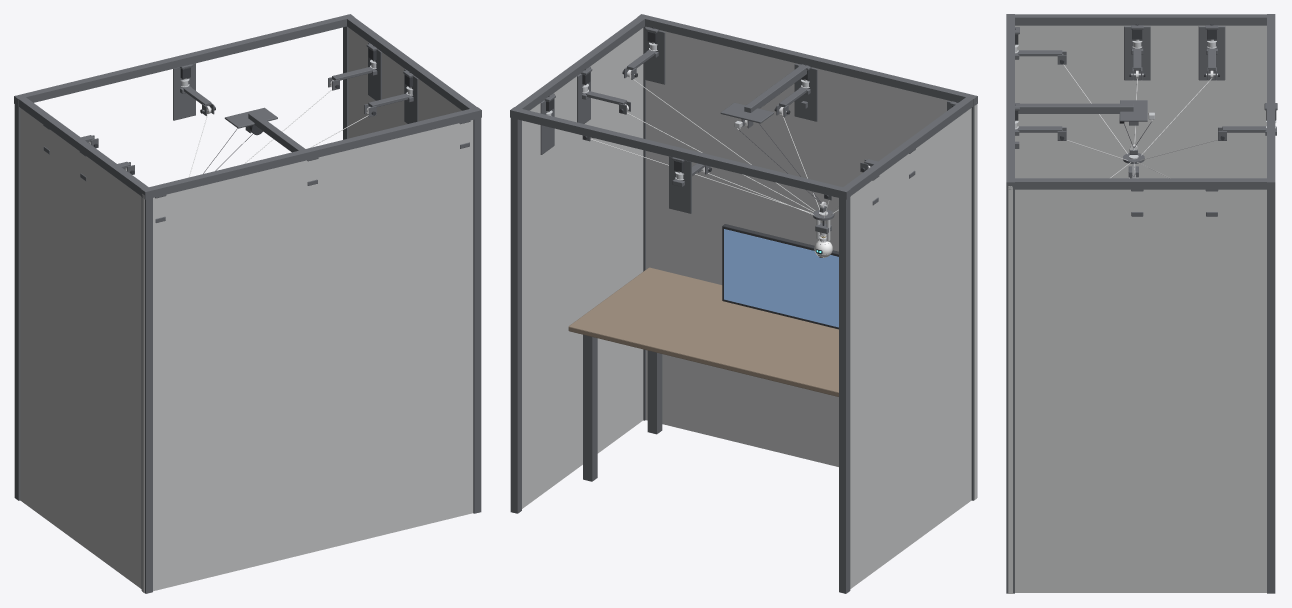
The model's file is rig.glb.
The picture shows the model from 3 angles, left to right: view 1: azimuth 30°, elevation 25°; view 2: azimuth 150°, elevation 25°; view 3: azimuth 270°, elevation 25°; orthographic projection. The views are drawn at different scales.
Parts seen in each view (by area): view 1: wall_back, wall_side_-1, wall_side_1, edge_top_back, edge_top_front, edge_-1_0, edge_1_0, edge_-1_1100, edge_top_-1, edge_top_1, W6_plate, boom (+1 smaller); view 2: wall_back, wall_side_-1, wall_side_1, desk, monitor_scr, edge_-1_1100, edge_1_1100, edge_top_front, edge_top_back, leg_1_1, edge_-1_0, edge_top_-1 (+8 smaller); view 3: wall_side_1, wall_side_-1, edge_1_1100, edge_top_-1, edge_top_1, wall_back, edge_1_0, edge_top_front, edge_top_back, boom, W3_plate, W7_plate (+1 smaller).
Boxes of the visible parts, bbox=[...] form: wall_back: bbox=[142, 120, 473, 593]; wall_side_-1: bbox=[20, 108, 141, 588]; wall_side_1: bbox=[348, 28, 461, 138]; edge_top_back: bbox=[141, 107, 481, 199]; edge_top_front: bbox=[14, 14, 354, 106]; edge_-1_0: bbox=[141, 194, 152, 593]; edge_1_0: bbox=[473, 114, 481, 513]; edge_-1_1100: bbox=[14, 104, 20, 500]; edge_top_-1: bbox=[17, 96, 149, 195]; edge_top_1: bbox=[347, 16, 478, 110]; W6_plate: bbox=[173, 63, 195, 120]; boom: bbox=[248, 112, 304, 152]; wall_back: bbox=[646, 26, 976, 500]; wall_side_-1: bbox=[850, 108, 971, 588]; wall_side_1: bbox=[522, 28, 643, 508]; desk: bbox=[568, 267, 838, 396]; monitor_scr: bbox=[724, 229, 838, 327]; edge_-1_1100: bbox=[839, 194, 850, 593]; edge_1_1100: bbox=[510, 114, 521, 513]; edge_top_front: bbox=[510, 107, 850, 199]; edge_top_back: bbox=[637, 14, 977, 106]; leg_1_1: bbox=[583, 334, 597, 481]; edge_-1_0: bbox=[971, 104, 977, 500]; edge_top_-1: bbox=[842, 96, 973, 195]; wall_side_1: bbox=[1015, 189, 1266, 592]; wall_side_-1: bbox=[1015, 25, 1266, 178]; edge_1_1100: bbox=[1267, 190, 1275, 593]; edge_top_-1: bbox=[1011, 14, 1270, 25]; edge_top_1: bbox=[1015, 178, 1266, 189]; wall_back: bbox=[1008, 186, 1012, 593]; edge_1_0: bbox=[1006, 190, 1014, 593]; edge_top_front: bbox=[1267, 14, 1275, 189]; edge_top_back: bbox=[1006, 14, 1014, 189]; boom: bbox=[1015, 103, 1133, 113]; W3_plate: bbox=[1198, 26, 1225, 80]; W7_plate: bbox=[1124, 26, 1150, 80].
Size of the model in its own units: 1.68 by 1.92 by 1.15.
